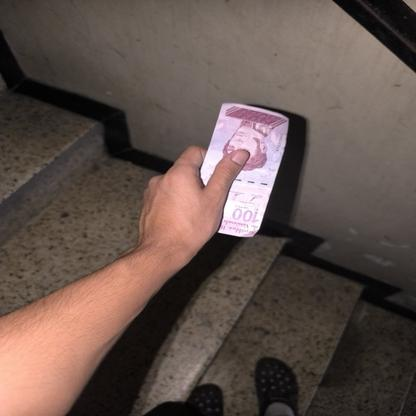vef_front: (198, 102, 289, 238)
